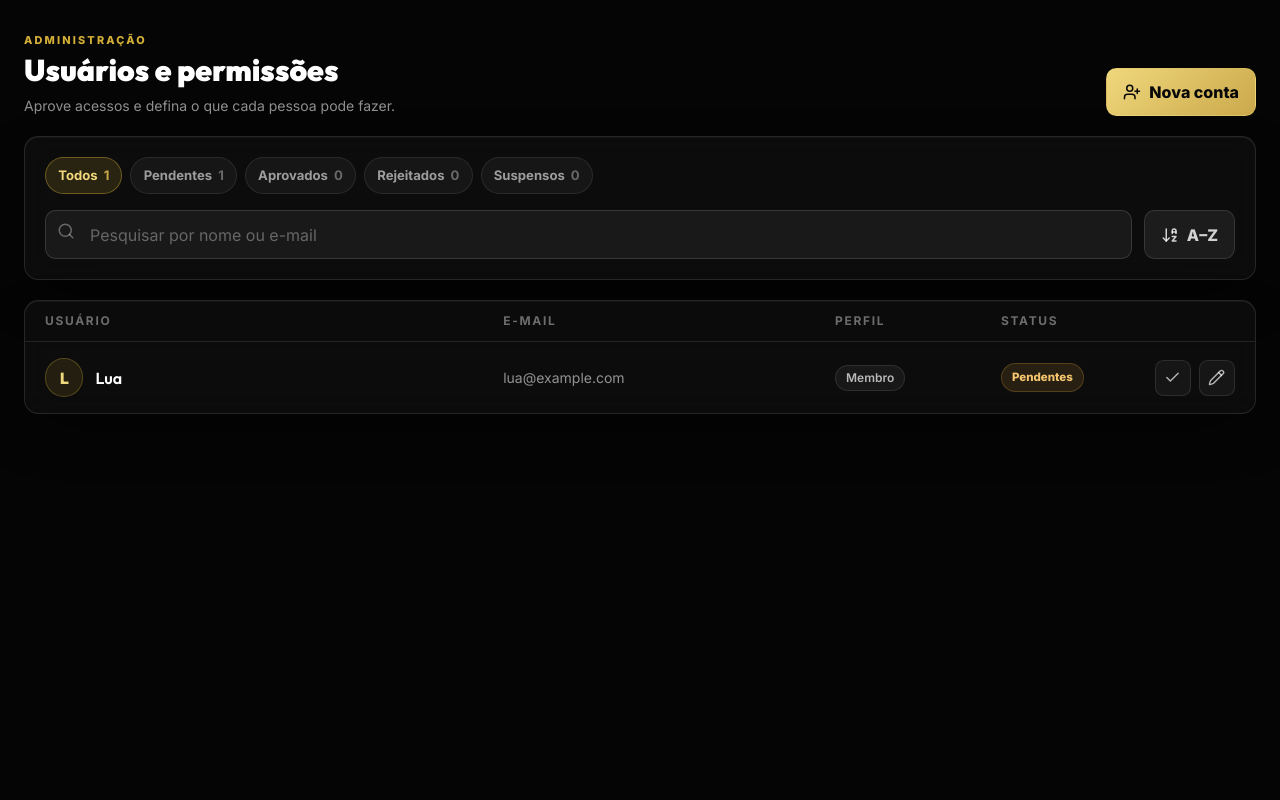
UsersPanel › exibe a exclusão de usuário como toast no centro inferior
The image size is (1280, 800).
Check: the heading "Lua" is shown, box [95,366,122,390]
Click the button named "Editar Lua".
click(1217, 378)  # box [1199,360,1235,396]
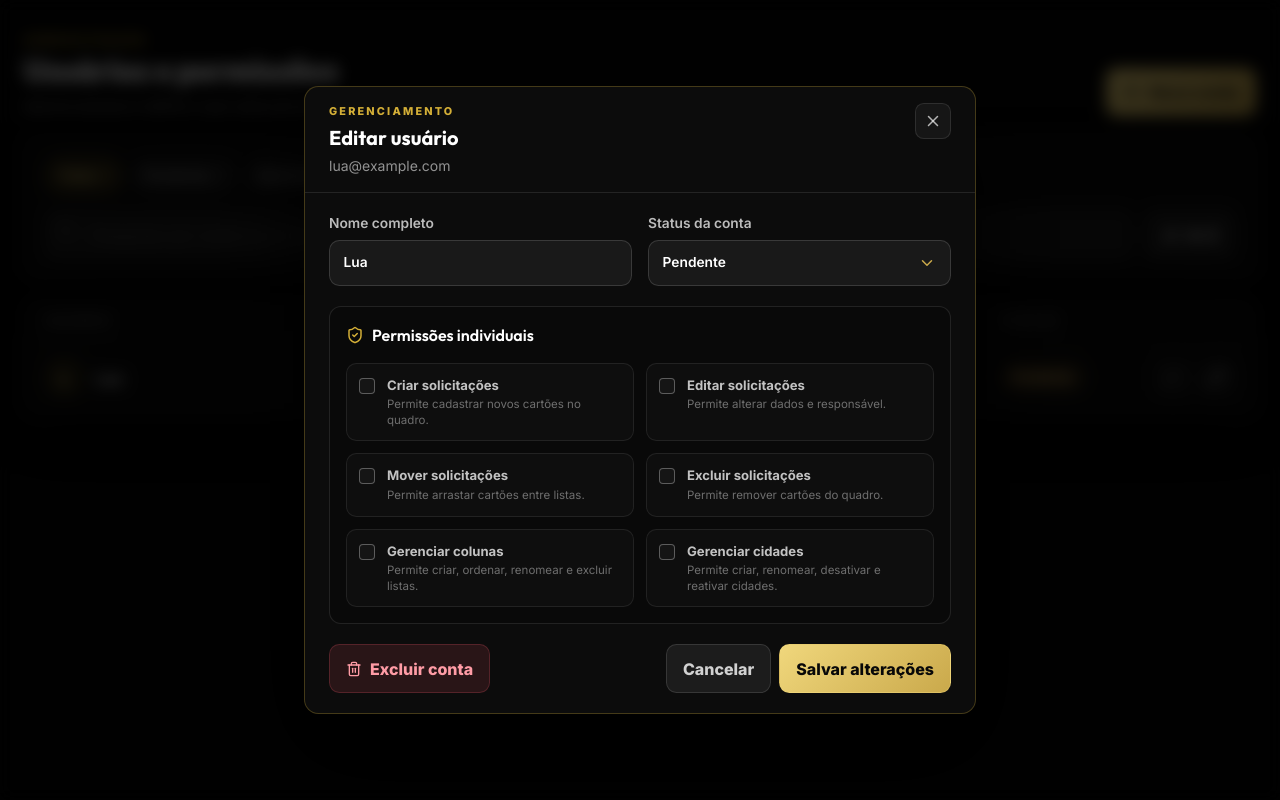
Click the button "Excluir conta".
click(410, 668)  # box [329,644,490,693]
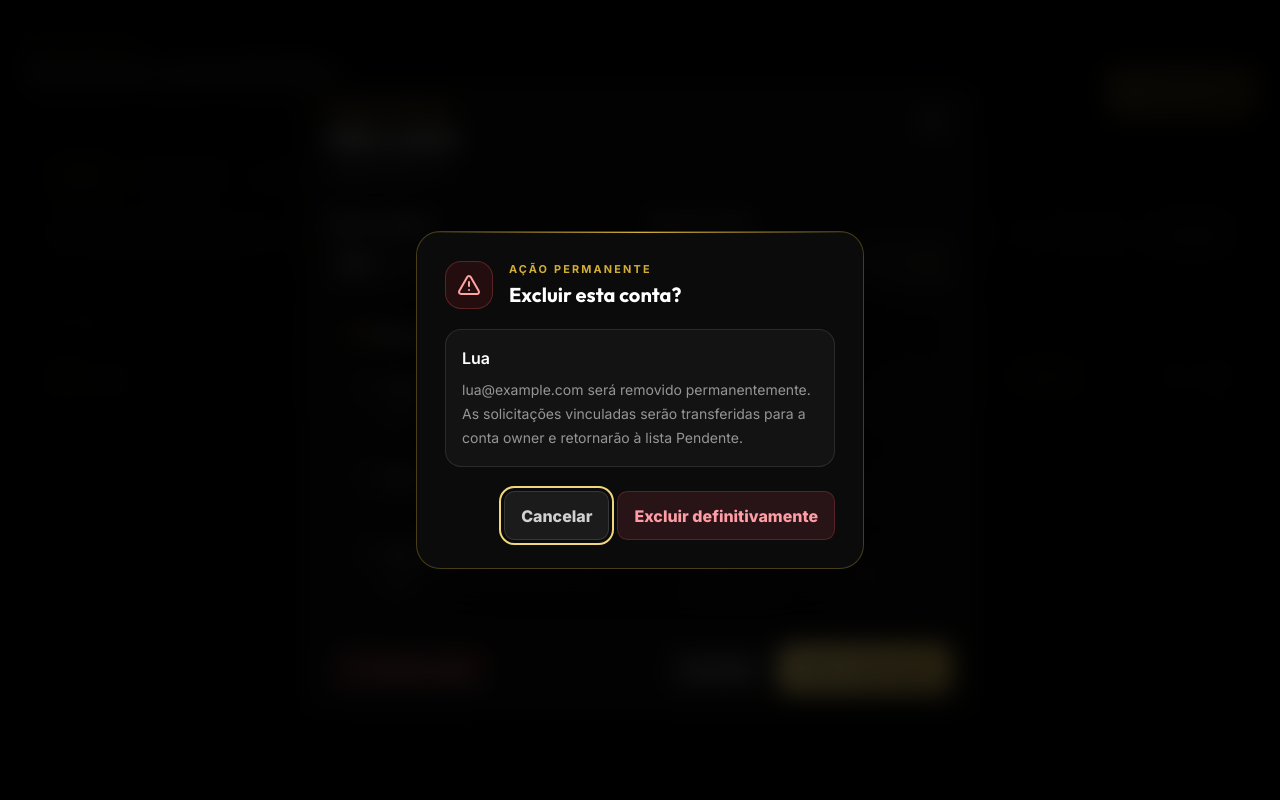
Click the button "Excluir definitivamente".
click(726, 516)  # box [617,492,835,540]
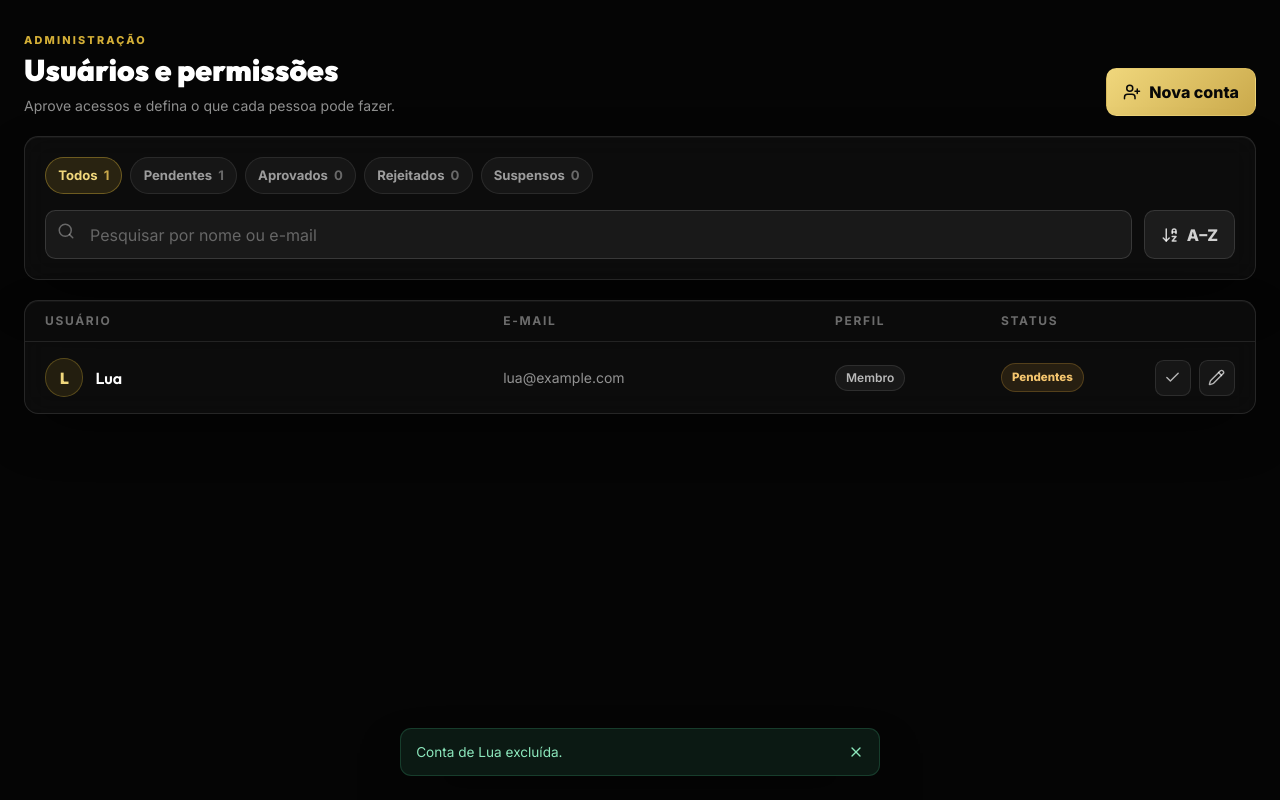
Check: the message reads "Conta de Lua excluída.", box [416,744,562,760]
